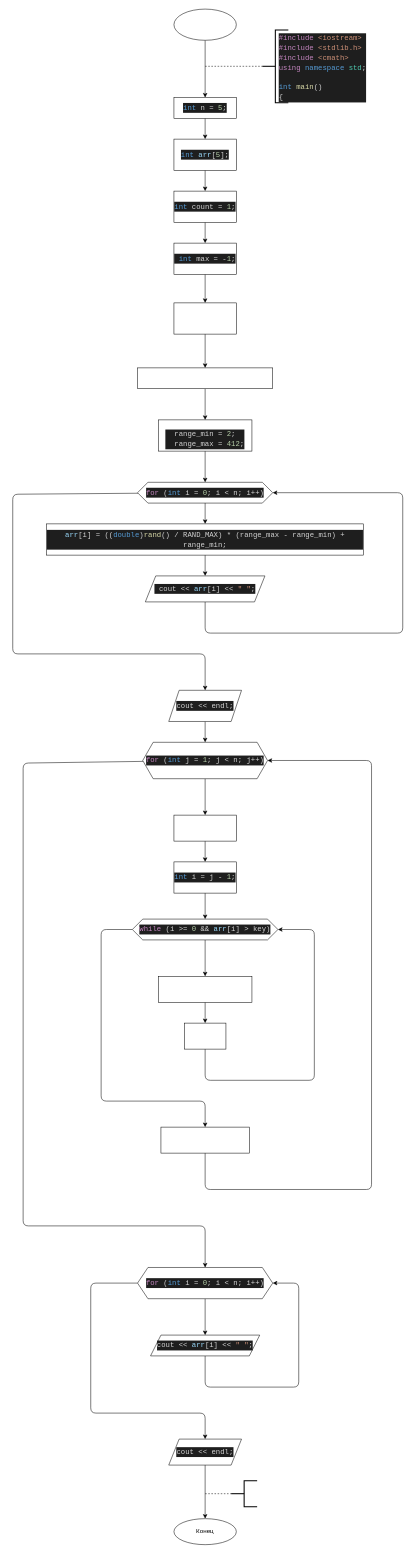
This 416x1554 diagram has some shape labels left out. The shapes that lost their labels are listed below. From the top down, each one's centre as x and y in pixels, then its label:
At [204,24]: "Начало".
At [204,318]: "int key;".
At [205,378]: "int r, range_min, range_max;".
At [204,828]: "key = arr [j];".
At [205,989]: "arr [i + 1 ] = arr [i];".
At [205,1036]: "i--;".
At [204,1140]: "arr [i + 1 ] = key;".
At [243,1493]: "return 0 ;".
